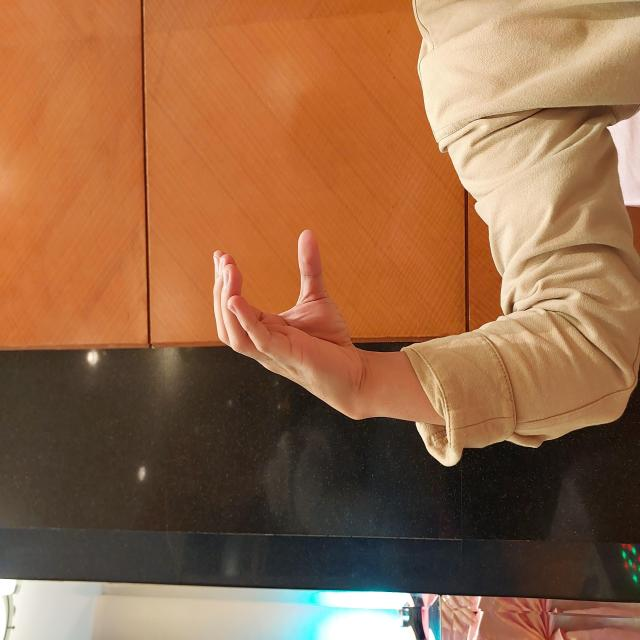C: (238, 211, 411, 368)
